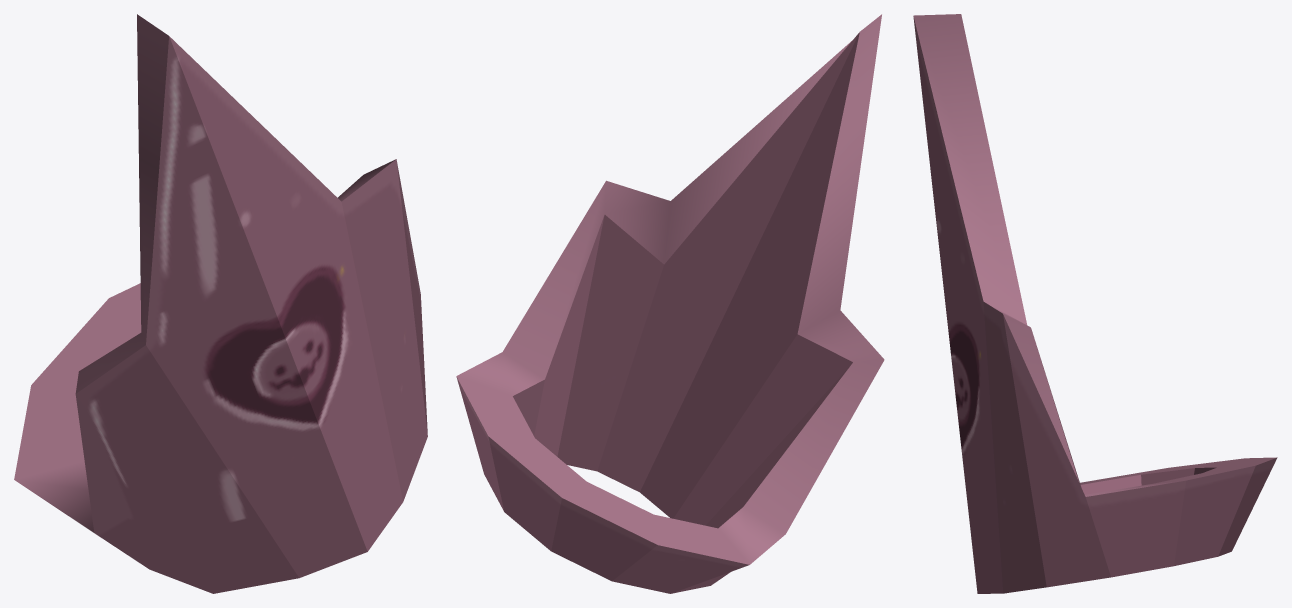
File: Tiara.fbx
3 views of the same model, side by side, from view 1: azimuth 30°, elevation 25°; view 2: azimuth 150°, elevation 25°; view 3: azimuth 270°, elevation 25° (orthographic). The views are drawn at different scales.
Visible parts, largest first — view 1: Crown1; view 2: Crown1; view 3: Crown1.
Part boxes in pixels (x1=…): Crown1: x1=14, y1=14, x2=427, y2=593; Crown1: x1=456, y1=14, x2=884, y2=593; Crown1: x1=913, y1=14, x2=1277, y2=593.
Bounding box in the file's own units: 5.93 × 8.96 × 5.72.
